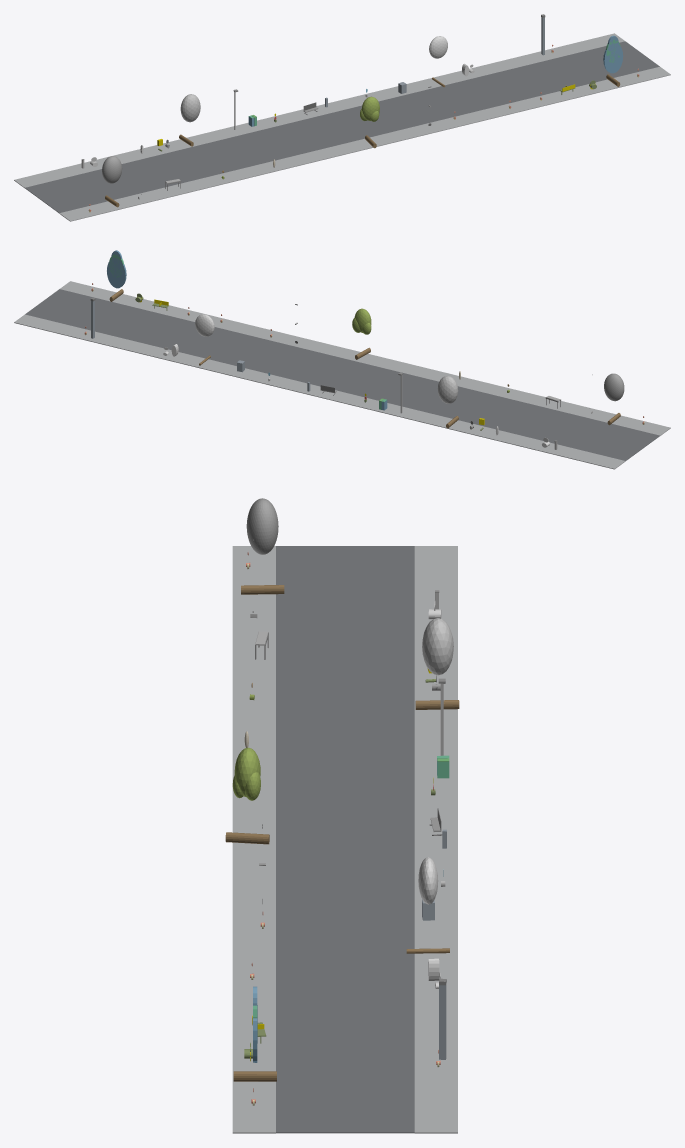
3 renders of one model, top to bottom at view 1: azimuth 30°, elevation 25°; view 2: azimuth 150°, elevation 25°; view 3: azimuth 270°, elevation 25°, orthographic. The views are drawn at different scales.
Visible parts, largest first — view 1: road_slab, sidewalk_left, sidewalk_right, inst_0016, inst_0013, inst_0012, inst_0014, inst_0015; view 2: road_slab, sidewalk_right, sidewalk_left, inst_0016, inst_0013, inst_0012, inst_0014, inst_0015; view 3: road_slab, sidewalk_left, sidewalk_right, inst_0013, inst_0012, inst_0014, inst_0015.
Boxes of the visible parts, x1,y1,x2,y2 form: road_slab: (25,41,659,213); sidewalk_left: (59,66,670,221); sidewalk_right: (14,33,624,188); inst_0016: (603,35,623,86); inst_0013: (179,94,200,146); inst_0012: (102,156,122,207); inst_0014: (360,96,379,148); inst_0015: (429,36,447,87); road_slab: (25,289,659,461); sidewalk_right: (14,314,625,469); sidewalk_left: (60,281,670,435); inst_0016: (107,250,126,301); inst_0013: (437,376,458,428); inst_0012: (604,373,624,425); inst_0014: (352,308,371,359); inst_0015: (195,314,214,365); road_slab: (276,546,414,1133); sidewalk_left: (232,546,275,1133); sidewalk_right: (414,546,457,1133); inst_0013: (415,618,459,709); inst_0012: (241,498,284,594); inst_0014: (225,747,269,844); inst_0015: (406,857,449,953).
Size of the model in its own units: 80 by 6.08 by 13.47.
